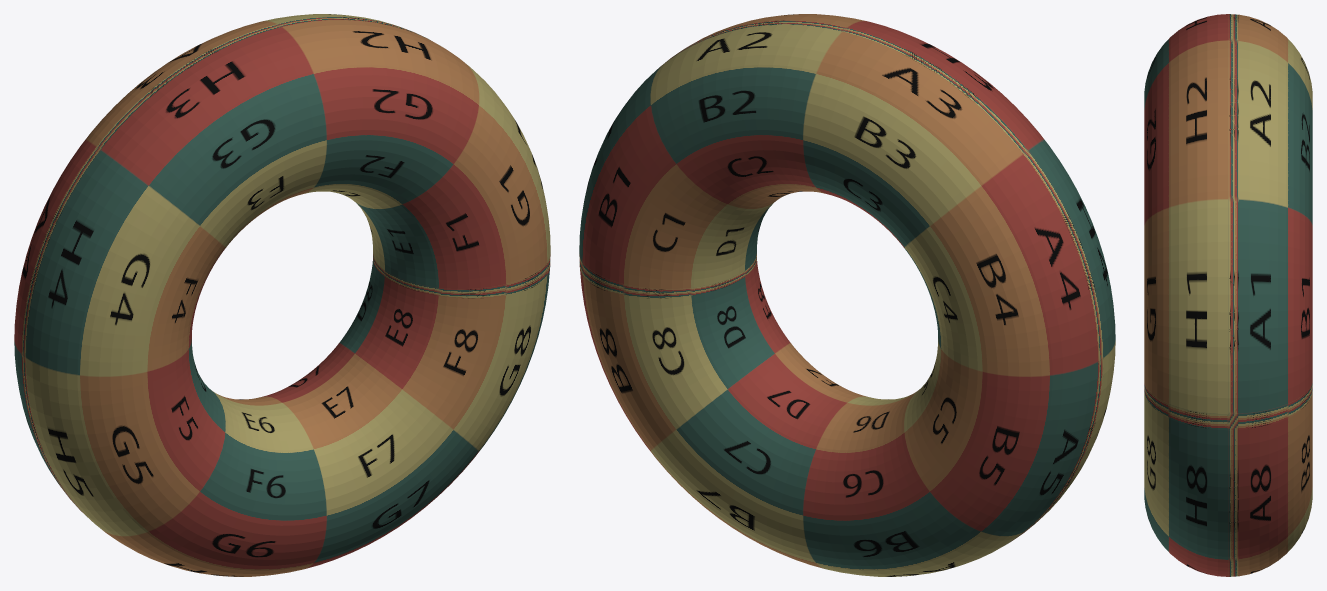
The model's file is texture_torus_R6_r9.glb.
3 renders of one model, left to right at view 1: azimuth 30°, elevation 25°; view 2: azimuth 150°, elevation 25°; view 3: azimuth 270°, elevation 25°, orthographic. The views are drawn at different scales.
Visible parts, largest first — view 1: world; view 2: world; view 3: world.
Part boxes in pixels (x1=…): world: x1=14, y1=14, x2=550, y2=576; world: x1=579, y1=14, x2=1115, y2=576; world: x1=1144, y1=14, x2=1312, y2=576.
Bounding box in the file's own units: 33.33 × 33.33 × 9.98.
1 material, 1 textured.
